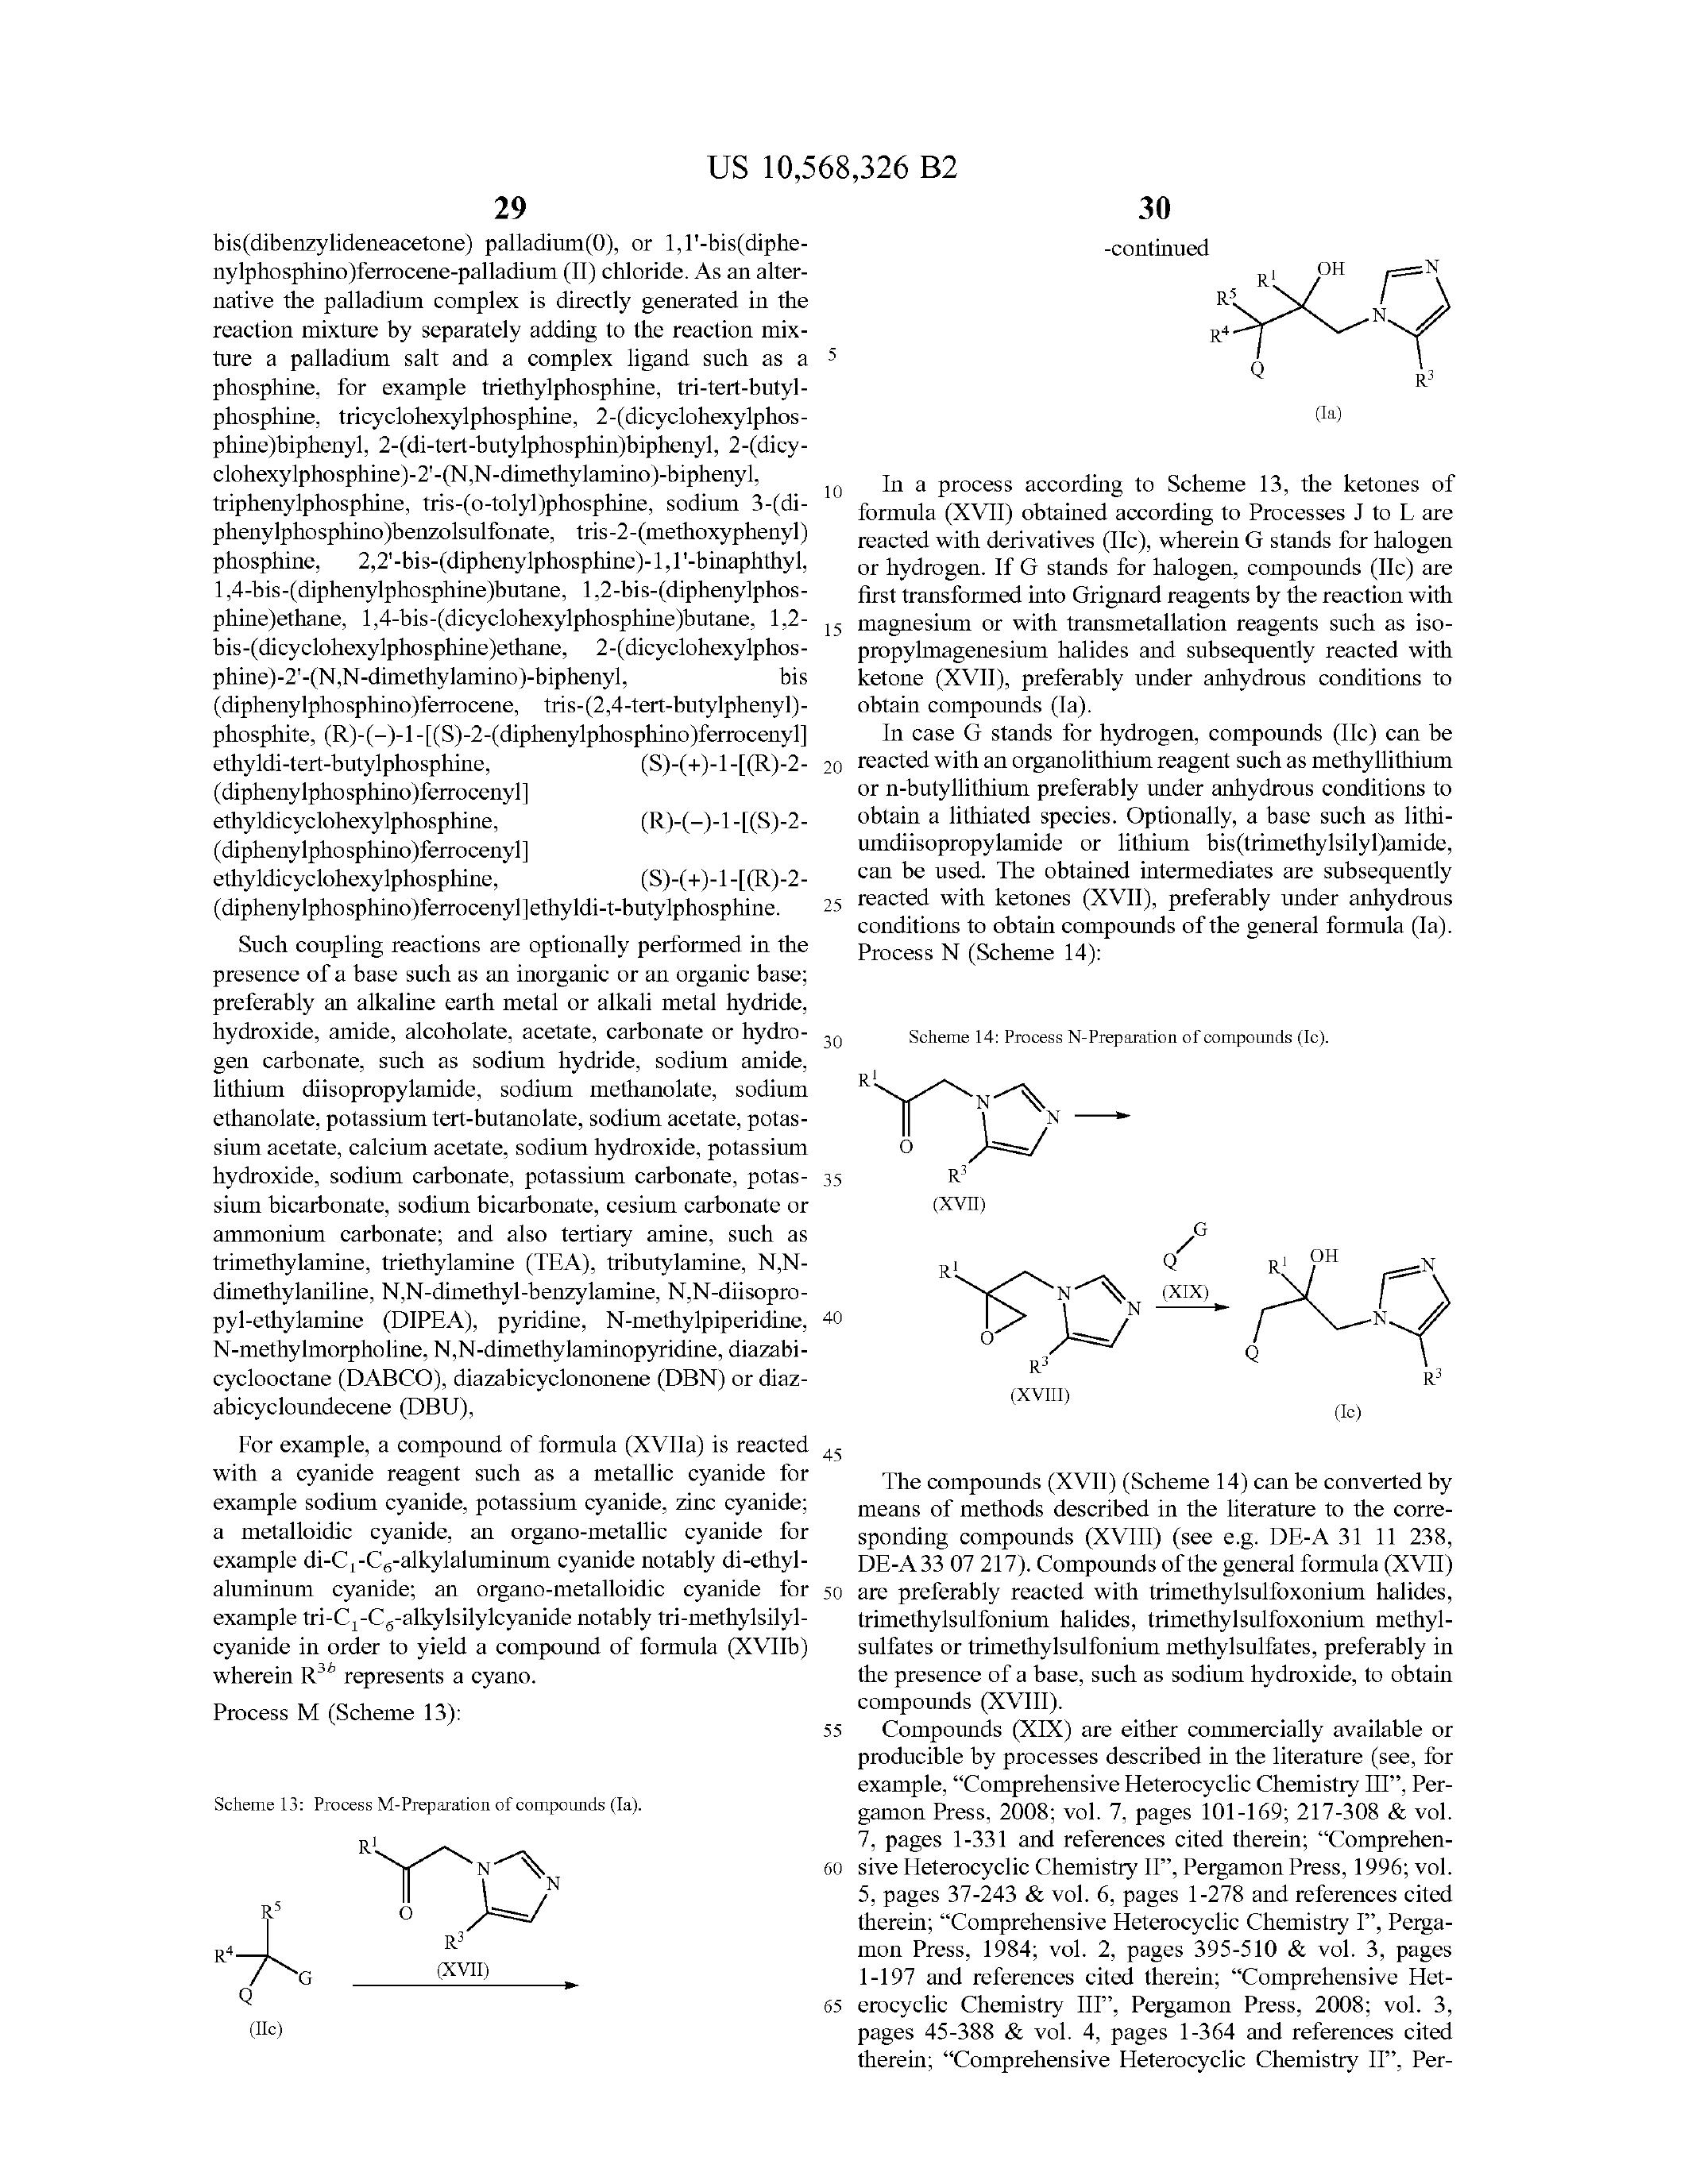reactions: (844, 1042, 1484, 1441), (186, 1771, 676, 2058), (1168, 245, 1477, 443)
